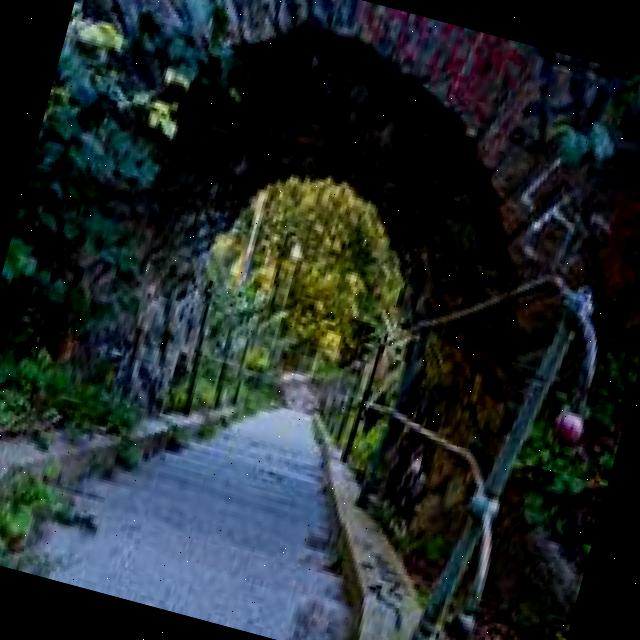stairs: (0, 243, 470, 640)
